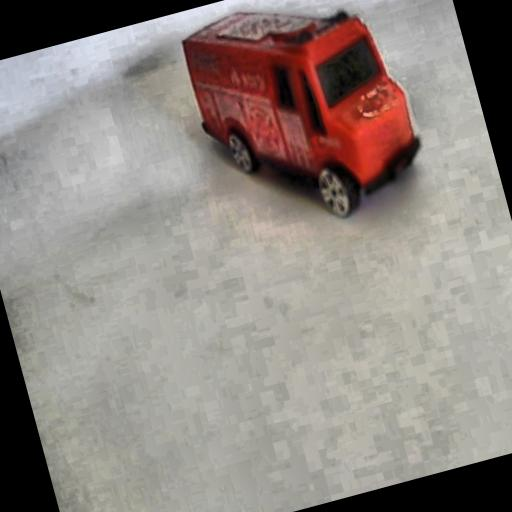fire_truck: (160, 0, 445, 261), (182, 12, 270, 90)
